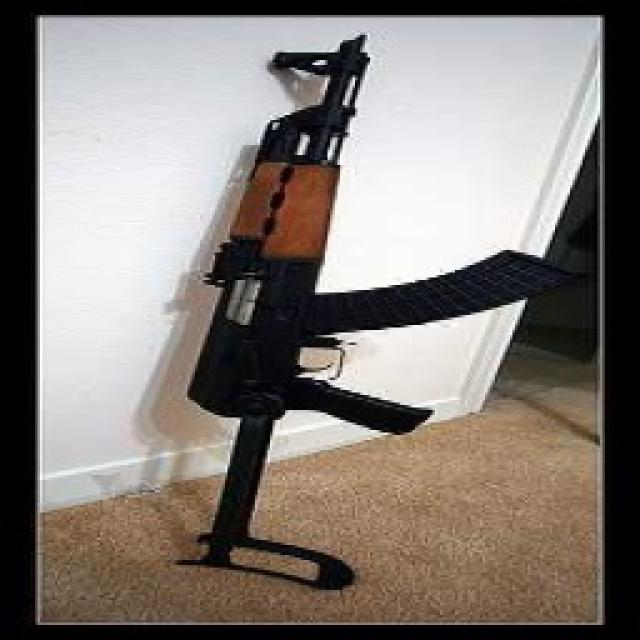long weapon: (66, 31, 574, 599)
